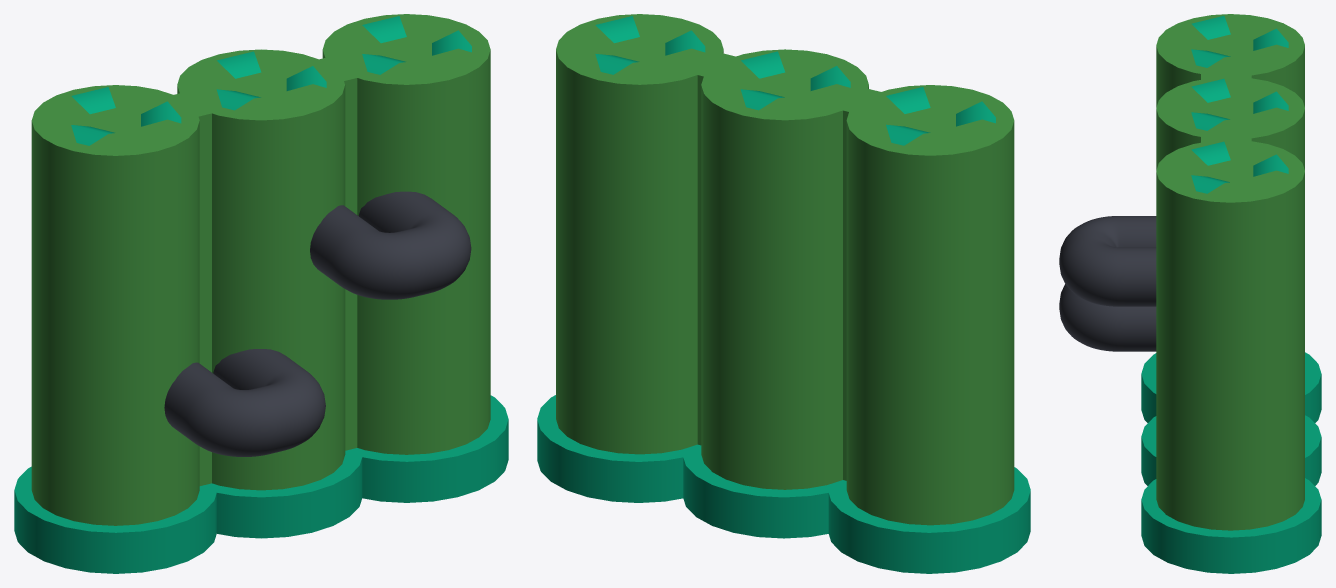
File: Life_Support.fbx
The picture shows the model from 3 angles, left to right: view 1: azimuth 30°, elevation 25°; view 2: azimuth 150°, elevation 25°; view 3: azimuth 270°, elevation 25°; orthographic projection. The views are drawn at different scales.
Parts seen in each view (by area): view 1: cylinder (×6), pipe_smallBend (×4), block, pipe_small (×4), plant_large (×3); view 2: cylinder (×6), block, plant_large (×3); view 3: cylinder (×6), pipe_smallBend (×3), plant_large (×3), pipe_small (×3), block.
Part boxes in pixels (bbox=[...]): cylinder (×6): bbox=[14, 14, 508, 573]; pipe_smallBend (×4): bbox=[181, 207, 471, 456]; block: bbox=[104, 50, 393, 485]; pipe_small (×4): bbox=[164, 191, 447, 439]; plant_large (×3): bbox=[71, 16, 471, 145]; cylinder (×6): bbox=[537, 14, 1030, 573]; block: bbox=[666, 49, 946, 480]; plant_large (×3): bbox=[595, 16, 995, 145]; cylinder (×6): bbox=[1141, 14, 1321, 573]; pipe_smallBend (×3): bbox=[1059, 216, 1126, 351]; plant_large (×3): bbox=[1191, 16, 1288, 193]; pipe_small (×3): bbox=[1126, 216, 1156, 351]; block: bbox=[1201, 45, 1251, 158].
Bounding box in the file's own units: 32.1 × 27.66 × 17.6.
